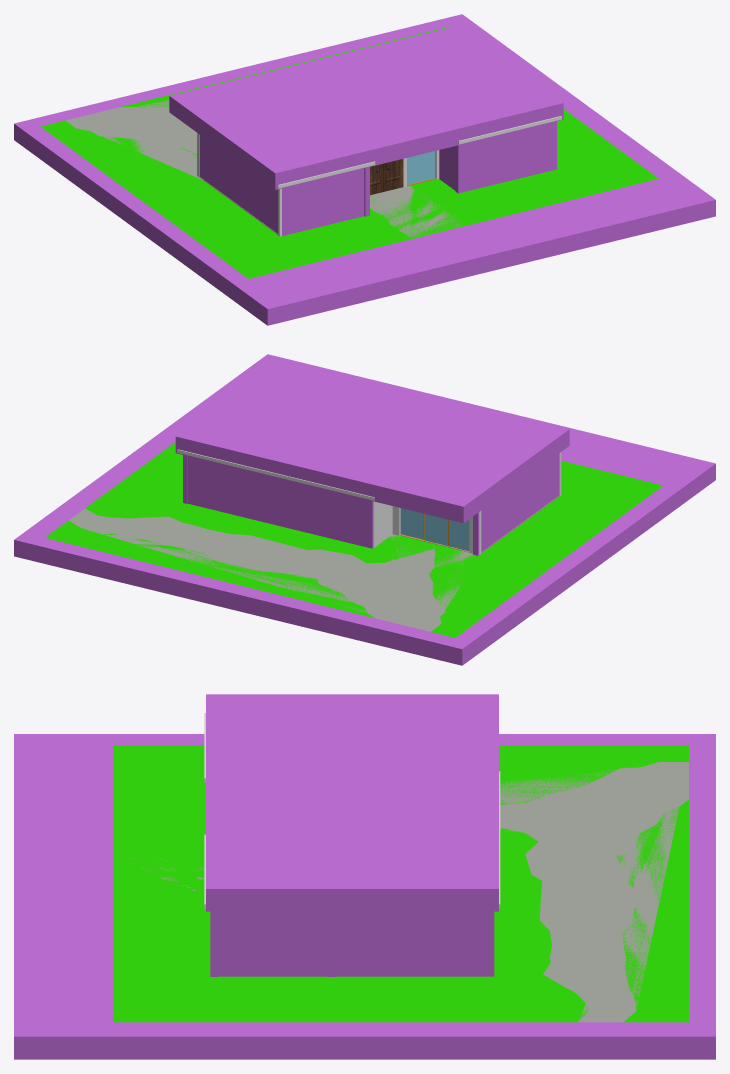
The model's file is Casa_coliciones2.fbx.
The picture shows the model from 3 angles, top to bottom: view 1: azimuth 30°, elevation 25°; view 2: azimuth 150°, elevation 25°; view 3: azimuth 270°, elevation 25°; orthographic projection. The views are drawn at different scales.
Visible parts, largest first — view 1: Cubo.016, Cubo.017, Plano, Cubo.008, Cubo.007, Cubo.001, Techo, Ventana.014, Cubo.003, Puerta.028, Muros; view 2: Plano, Cubo.017, Cubo.016, Cubo.006, Cubo.001, Muros, Ventana.001, Techo, Ventana_Deslizable.011; view 3: Plano, Cubo.016, Cubo.017, Cubo.002.
Boxes of the visible parts, x1=… form: Cubo.016: x1=14, y1=14, x2=715, y2=325; Cubo.017: x1=169, y1=25, x2=563, y2=189; Plano: x1=40, y1=26, x2=658, y2=278; Cubo.008: x1=455, y1=121, x2=556, y2=193; Cubo.007: x1=282, y1=168, x2=364, y2=235; Cubo.001: x1=197, y1=133, x2=277, y2=234; Techo: x1=277, y1=116, x2=561, y2=188; Ventana.014: x1=407, y1=151, x2=435, y2=184; Cubo.003: x1=439, y1=146, x2=455, y2=190; Puerta.028: x1=383, y1=159, x2=402, y2=191; Muros: x1=197, y1=133, x2=439, y2=236; Plano: x1=45, y1=442, x2=662, y2=637; Cubo.017: x1=175, y1=359, x2=569, y2=523; Cubo.016: x1=14, y1=354, x2=715, y2=665; Cubo.006: x1=188, y1=456, x2=372, y2=548; Cubo.001: x1=473, y1=454, x2=558, y2=555; Muros: x1=373, y1=452, x2=561, y2=555; Ventana.001: x1=424, y1=514, x2=469, y2=550; Techo: x1=177, y1=449, x2=374, y2=500; Ventana_Deslizable.011: x1=400, y1=508, x2=423, y2=539; Plano: x1=113, y1=745, x2=688, y2=1022; Cubo.016: x1=14, y1=734, x2=715, y2=1059; Cubo.017: x1=206, y1=694, x2=498, y2=911; Cubo.002: x1=218, y1=911, x2=494, y2=976.
Size of the model in its own units: 2691 by 2637 by 475.
Materials: 9 (2 with a texture image).
